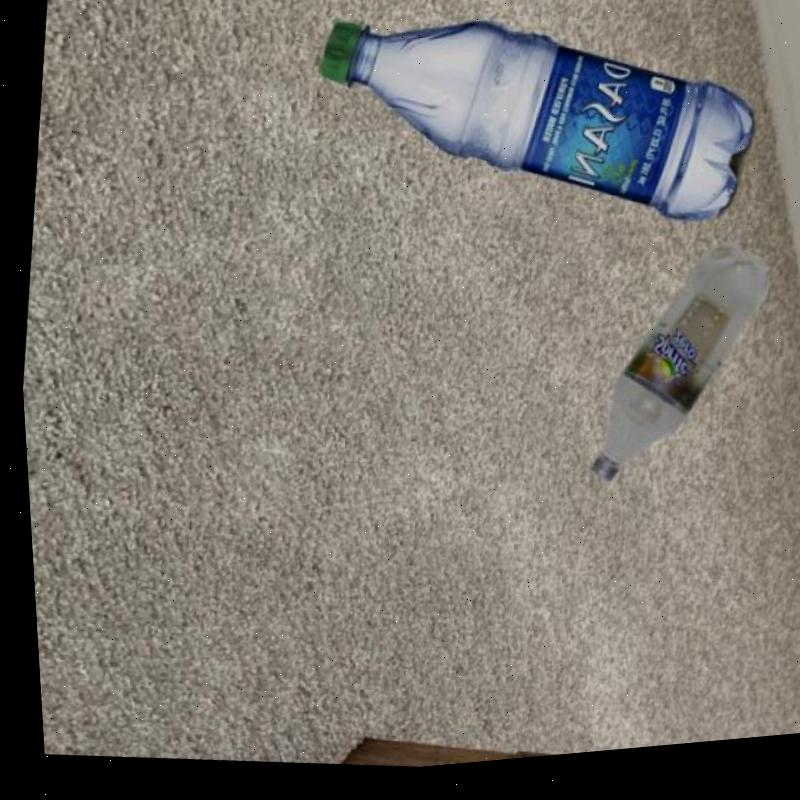botella: (296, 0, 765, 266), (574, 248, 774, 511)
